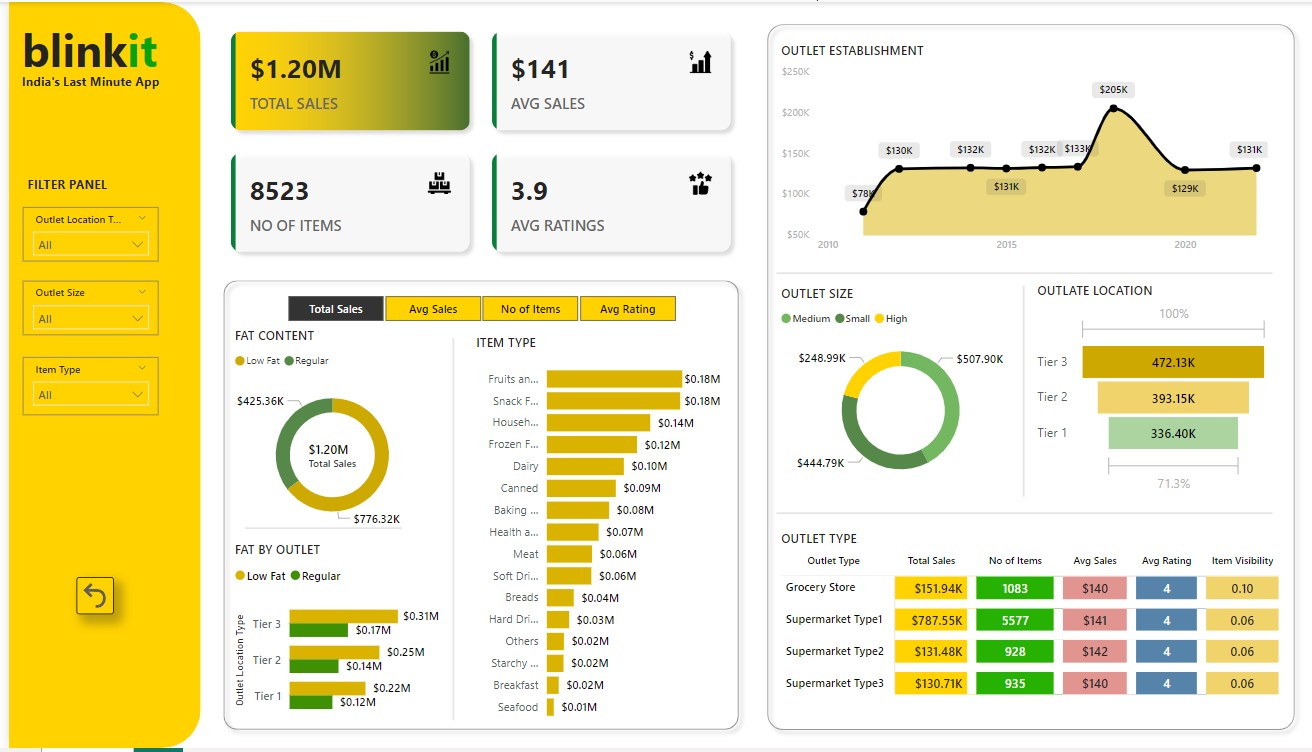

What the dashboard file says about the page in this screenshot:
{"tool":"powerbi","page":{"name":"Home","canvas":[1400,800],"ordinal":0},"visuals":[{"type":"shape","box":[0,0,205.6,800],"z":0},{"type":"textbox","box":[0,13.5,172.6,82.5],"z":1000},{"type":"textbox","box":[3,70.5,169.6,30],"z":2000},{"type":"cardVisual","fields":{"Data":["BlinkIT Grocery Data.Total Sales","BlinkIT Grocery Data.Avg Sales","BlinkIT Grocery Data.No of Items","BlinkIT Grocery Data.Avg Rating"]},"box":[220.6,15,570.3,270.2],"z":3000},{"type":"shape","box":[220.6,289.7,570.3,499.8],"z":4000},{"type":"slicer","fields":{"Values":["Metrics.Metrics"]},"box":[273.2,307.7,465.3,40.5],"z":5000},{"type":"donutChart","title":"FAT CONTENT","fields":{"Y":["BlinkIT Grocery Data.Total Sales"],"Category":["BlinkIT Grocery Data.Item Fat Content"]},"box":[237.5,348.6,219.4,229.2],"z":6000},{"type":"cardVisual","fields":{"Data":["BlinkIT Grocery Data.Total Sales"]},"box":[304.2,452.8,86.1,55.6],"z":7000},{"type":"clusteredBarChart","title":"FAT BY OUTLET","fields":{"Y":["BlinkIT Grocery Data.Total Sales"],"Category":["BlinkIT Grocery Data.Outlet Location Type"],"Series":["BlinkIT Grocery Data.Item Fat Content"]},"box":[237.5,577.8,229.2,202.8],"z":8000},{"type":"shape","box":[252.8,547.2,168.1,34.7],"z":9000},{"type":"shape","box":[456.9,361.1,38.9,409.7],"z":10000},{"type":"barChart","title":"ITEM TYPE","fields":{"Y":["BlinkIT Grocery Data.Total Sales"],"Category":["BlinkIT Grocery Data.Item Type"]},"box":[495.8,355.6,272.2,425],"z":11000},{"type":"shape","box":[804.2,15.3,583.3,775],"z":12000},{"type":"lineChart","title":"OUTLET ESTABLISHMENT","fields":{"Y":["BlinkIT Grocery Data.Total Sales"],"Category":["BlinkIT Grocery Data.Outlet Establishment Year"]},"box":[823.6,43.1,531.9,234.7],"z":13000},{"type":"shape","box":[823.6,273.6,531.9,34.7],"z":14000},{"type":"donutChart","title":"OUTLET SIZE","fields":{"Y":["BlinkIT Grocery Data.Total Sales"],"Category":["BlinkIT Grocery Data.Outlet Size"]},"box":[823.6,302.8,266.7,225],"z":15000},{"type":"shape","box":[1079.2,304.2,18.1,226.4],"z":16000},{"type":"funnel","title":"OUTLATE LOCATION","fields":{"Y":["Sum(BlinkIT Grocery Data.Sales)"],"Category":["BlinkIT Grocery Data.Outlet Location Type"]},"box":[1097.2,300.4,258.3,230.6],"z":17000},{"type":"shape","box":[823.6,530.6,531.9,34.7],"z":18000},{"type":"pivotTable","title":"OUTLET TYPE","fields":{"Rows":["BlinkIT Grocery Data.Outlet Type"],"Values":["BlinkIT Grocery Data.Total Sales","BlinkIT Grocery Data.No of Items","BlinkIT Grocery Data.Avg Sales","BlinkIT Grocery Data.Avg Rating","Avg(BlinkIT Grocery Data.Item Visibility)"]},"box":[823.6,565.3,545.8,204.2],"z":19000},{"type":"slicer","fields":{"Values":["BlinkIT Grocery Data.Outlet Location Type"]},"box":[15.3,219.4,145.8,58.3],"z":20000},{"type":"slicer","fields":{"Values":["BlinkIT Grocery Data.Outlet Size"]},"box":[15.3,298.6,145.8,58.3],"z":21000},{"type":"slicer","fields":{"Values":["BlinkIT Grocery Data.Item Type"]},"box":[15.3,380.6,145.8,62.5],"z":22000},{"type":"textbox","box":[15.3,180.6,145.8,30.6],"z":23000},{"type":"actionButton","title":"RESET","box":[72.4,616.6,40.2,40.2],"z":24000},{"type":"textbox","box":[56.3,584.5,72.4,29.5],"z":25000}]}

Visuals, with their boxes in screenshot pixels (x1, y1, x2, y2), scaled from the page's 1400x800 canvas onto the 1312x752 screenshot:
shape: bbox(0, 0, 193, 751)
textbox: bbox(0, 13, 162, 90)
textbox: bbox(3, 66, 162, 94)
cardVisual - BlinkIT Grocery Data.Total Sales x BlinkIT Grocery Data.Avg Sales: bbox(207, 14, 741, 268)
shape: bbox(207, 272, 741, 742)
slicer - Metrics.Metrics: bbox(256, 289, 692, 327)
"FAT CONTENT" donutChart: bbox(223, 328, 428, 543)
cardVisual - BlinkIT Grocery Data.Total Sales: bbox(285, 426, 366, 478)
"FAT BY OUTLET" clusteredBarChart: bbox(223, 543, 437, 734)
shape: bbox(237, 514, 394, 547)
shape: bbox(428, 339, 465, 725)
"ITEM TYPE" barChart: bbox(465, 334, 720, 734)
shape: bbox(754, 14, 1300, 743)
"OUTLET ESTABLISHMENT" lineChart: bbox(772, 41, 1270, 261)
shape: bbox(772, 257, 1270, 290)
"OUTLET SIZE" donutChart: bbox(772, 285, 1022, 496)
shape: bbox(1011, 286, 1028, 499)
"OUTLATE LOCATION" funnel: bbox(1028, 282, 1270, 499)
shape: bbox(772, 499, 1270, 531)
"OUTLET TYPE" pivotTable: bbox(772, 531, 1283, 723)
slicer - BlinkIT Grocery Data.Outlet Location Type: bbox(14, 206, 151, 261)
slicer - BlinkIT Grocery Data.Outlet Size: bbox(14, 281, 151, 335)
slicer - BlinkIT Grocery Data.Item Type: bbox(14, 358, 151, 417)
textbox: bbox(14, 170, 151, 199)
"RESET" actionButton: bbox(68, 580, 106, 617)
textbox: bbox(53, 549, 121, 577)
